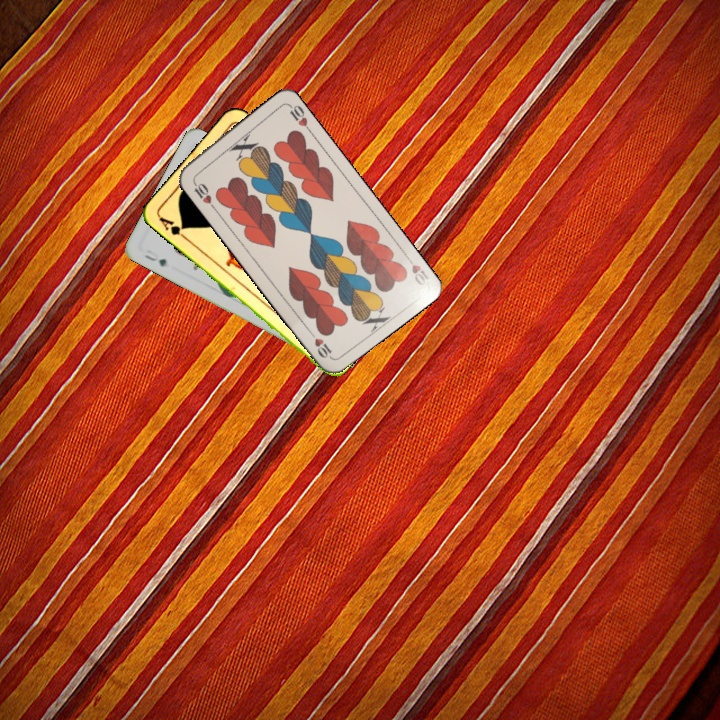GA: (155, 212, 190, 242)
GU: (141, 251, 169, 269)
H10: (401, 251, 431, 288), (189, 175, 218, 211)
